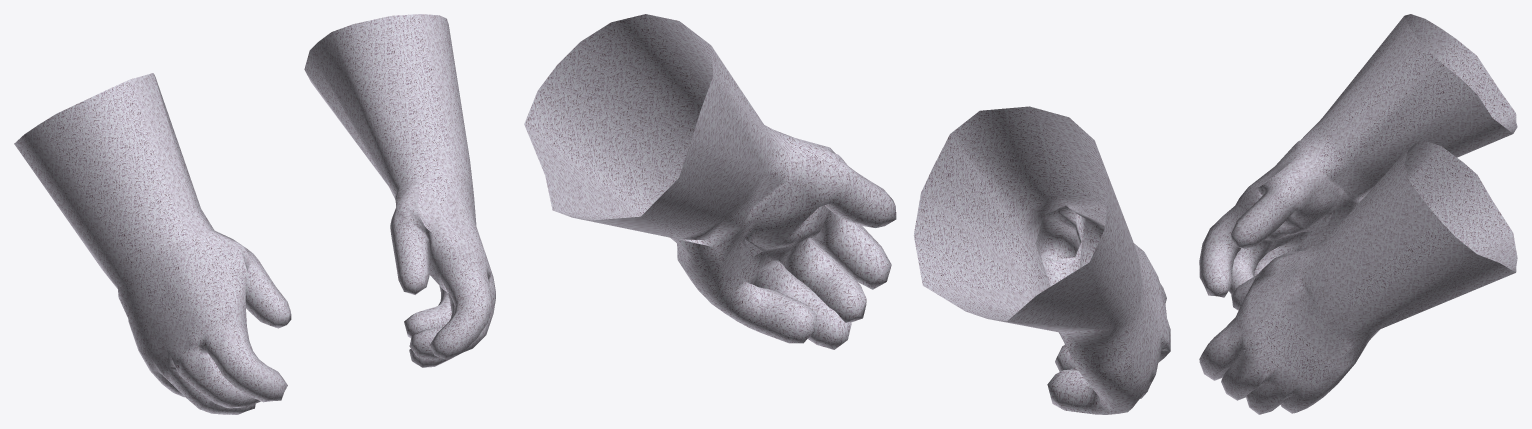
Rendered from tkb-SARUNG_TANGAN.glb.
The picture shows the model from 3 angles, left to right: view 1: azimuth 30°, elevation 25°; view 2: azimuth 150°, elevation 25°; view 3: azimuth 270°, elevation 25°; orthographic projection. The views are drawn at different scales.
Visible parts, largest first — view 1: model 2, model; view 2: model, model 2; view 3: model, model 2.
Part boxes in pixels (left/top/right/bottom): model 2: left=14, top=73, right=291, bottom=414; model: left=304, top=14, right=495, bottom=367; model: left=524, top=14, right=896, bottom=349; model 2: left=913, top=106, right=1170, bottom=414; model: left=1199, top=139, right=1517, bottom=414; model 2: left=1199, top=14, right=1517, bottom=297.
Bounding box in the file's own units: 0.4513 × 0.2935 × 0.3051.
1 material, 1 textured.
